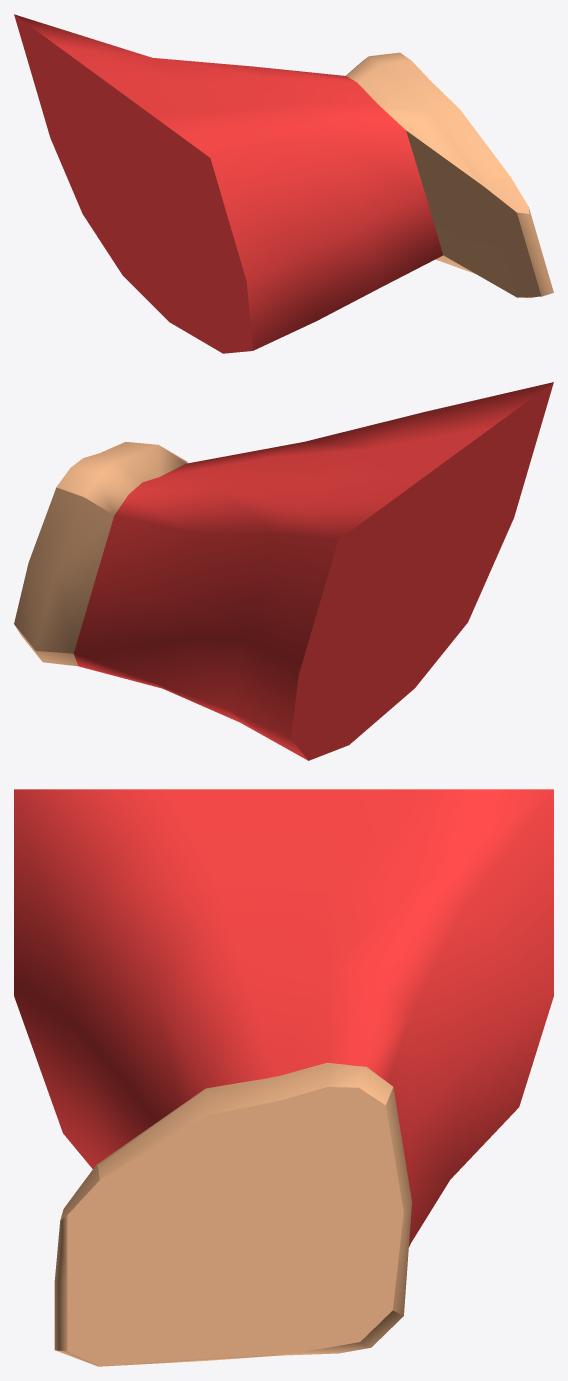
File: AXO_ANGRY_LEG_R.fbx
3 views of the same model, one above another, from view 1: azimuth 30°, elevation 25°; view 2: azimuth 150°, elevation 25°; view 3: azimuth 270°, elevation 25° (orthographic). The views are drawn at different scales.
Visible parts, largest first — view 1: AXO_ANGRY_LEG_R; view 2: AXO_ANGRY_LEG_R; view 3: AXO_ANGRY_LEG_R.
Boxes of the visible parts, x1,y1,x2,y2 form: AXO_ANGRY_LEG_R: [14, 14, 553, 353]; AXO_ANGRY_LEG_R: [14, 382, 553, 760]; AXO_ANGRY_LEG_R: [14, 789, 553, 1366].
Bounding box in the file's own units: 3.55 × 2.47 × 3.32.
